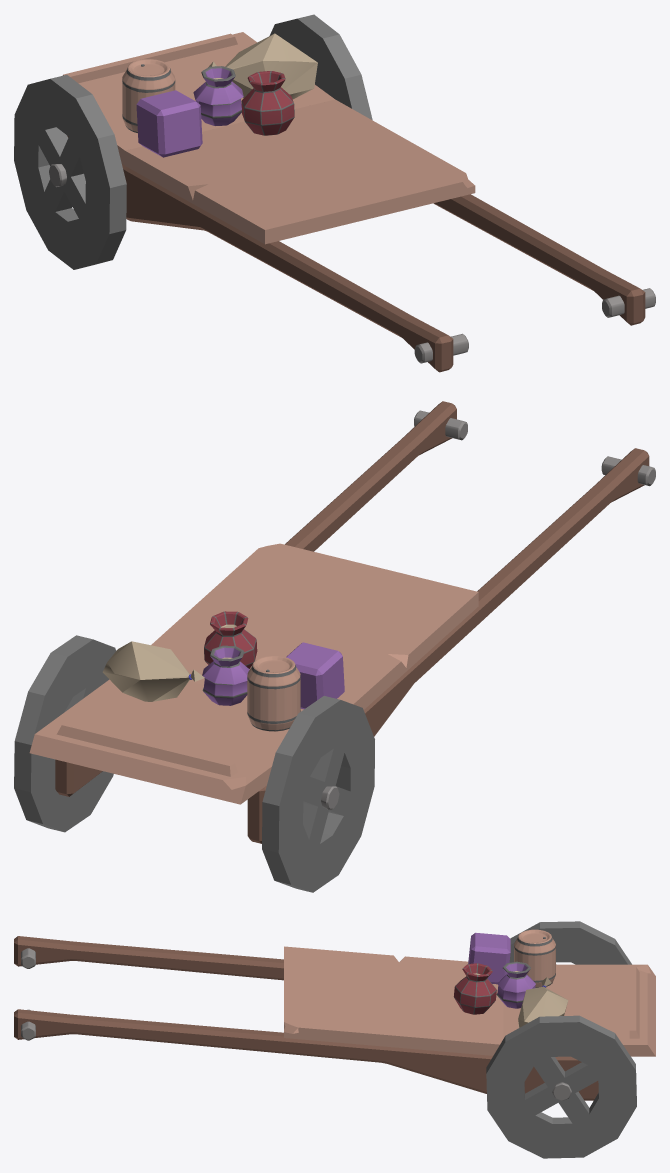
3 views of the same model, one above another, from view 1: azimuth 30°, elevation 25°; view 2: azimuth 150°, elevation 25°; view 3: azimuth 270°, elevation 25° (orthographic). The views are drawn at different scales.
Visible parts, largest first — view 1: pCube3, pCylinder1, pCube1, pCube2, pasted__pCube1, pasted__pCylinder1, pCube4, Rocks:pPlatonic1, pCylinder7, pCylinder5, pasted__pCylinder7, pCylinder3 (+1 smaller); view 2: pCube3, pCube2, pCylinder1, pasted__pCylinder1, pCube1, pasted__pCube1, Rocks:pPlatonic1, pCylinder5, pCube4, pasted__pCylinder7, pCylinder7; view 3: pCube3, pasted__pCylinder1, pasted__pCube1, pCube2, pCube1, pCylinder1, pCylinder5, pCylinder7, pCube4, Rocks:pPlatonic1, pasted__pCylinder7.
Boxes of the visible parts, <box> form: pCube3: <box>125,99,475,244</box>; pCylinder1: <box>14,74,126,269</box>; pCube1: <box>67,135,453,372</box>; pCube2: <box>63,32,334,165</box>; pasted__pCube1: <box>433,194,645,325</box>; pasted__pCylinder1: <box>269,14,372,120</box>; pCube4: <box>136,90,202,157</box>; Rocks:pPlatonic1: <box>208,33,317,99</box>; pCylinder7: <box>241,71,294,135</box>; pCylinder5: <box>122,59,175,133</box>; pasted__pCylinder7: <box>193,66,243,125</box>; pCylinder3: <box>414,333,468,363</box>; pCube3: <box>151,543,478,709</box>; pCube2: <box>29,679,303,804</box>; pCylinder1: <box>262,696,374,892</box>; pasted__pCylinder1: <box>14,635,116,832</box>; pCube1: <box>247,448,649,843</box>; pasted__pCube1: <box>55,401,456,796</box>; Rocks:pPlatonic1: <box>102,641,204,701</box>; pCylinder5: <box>247,655,300,731</box>; pCube4: <box>286,642,344,709</box>; pasted__pCylinder7: <box>202,645,249,705</box>; pCylinder7: <box>204,611,257,668</box>; pCube3: <box>284,946,503,1055</box>; pasted__pCylinder1: <box>486,1015,636,1158</box>; pasted__pCube1: <box>14,1009,598,1100</box>; pCube2: <box>503,964,655,1056</box>; pCube1: <box>14,936,283,980</box>; pCylinder1: <box>509,921,631,964</box>; pCylinder5: <box>514,929,555,987</box>; pCylinder7: <box>453,963,496,1014</box>; pCube4: <box>468,932,510,984</box>; Rocks:pPlatonic1: <box>518,977,568,1027</box>; pasted__pCylinder7: <box>496,961,535,1008</box>.
Size of the model in its own units: 0.2921 by 0.1909 by 0.7498.
